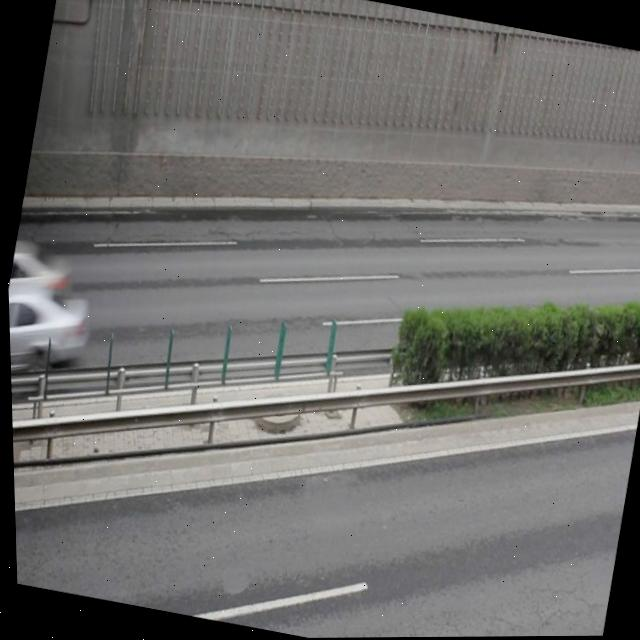car: (6, 276, 94, 386), (6, 238, 76, 323)
